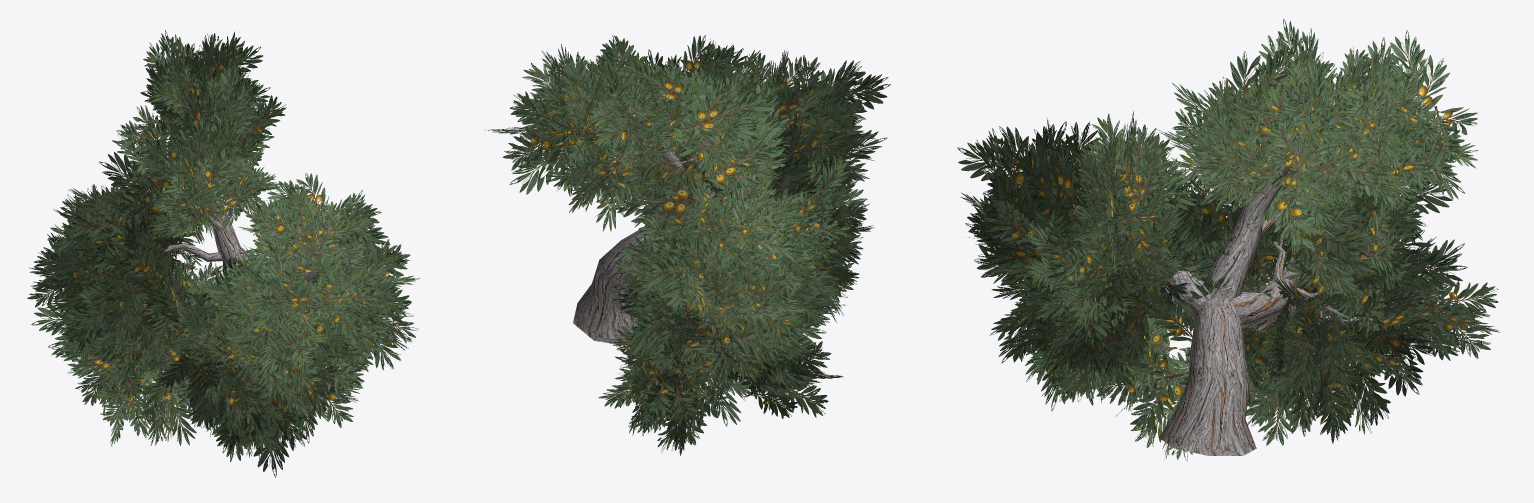
File: nature-white-olive-sunleaf_v3.glb
3 renders of one model, left to right at view 1: azimuth 30°, elevation 25°; view 2: azimuth 150°, elevation 25°; view 3: azimuth 270°, elevation 25°, orthographic. The views are drawn at different scales.
Parts seen in each view (by area): view 1: nature-white-olive-sunleaf; view 2: nature-white-olive-sunleaf; view 3: nature-white-olive-sunleaf.
Part boxes in pixels (<box>): nature-white-olive-sunleaf: <box>27,30,420,477</box>; nature-white-olive-sunleaf: <box>484,35,890,455</box>; nature-white-olive-sunleaf: <box>957,18,1500,461</box>.
Size of the model in its own units: 4.77 by 5.76 by 6.52.
2 materials, 2 textured.
